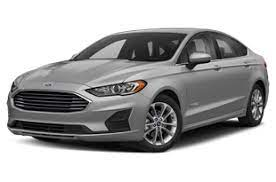Ford: (3, 27, 269, 149)
